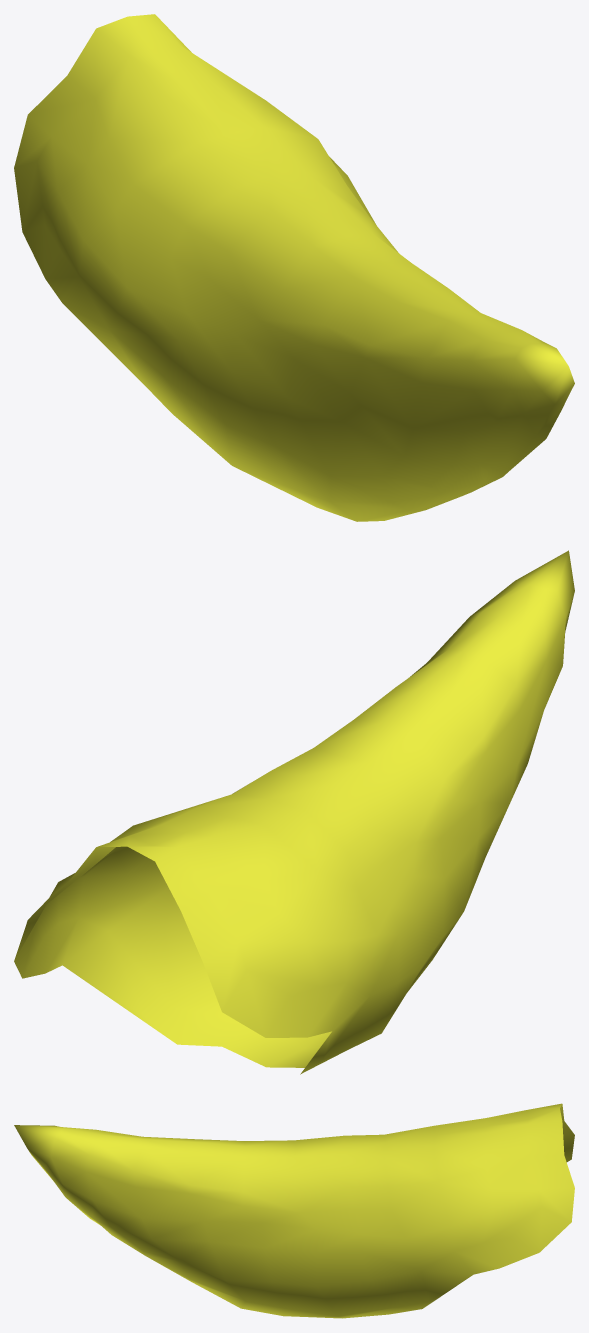
The model's file is SM_Horn.FBX.
The picture shows the model from 3 angles, top to bottom: view 1: azimuth 30°, elevation 25°; view 2: azimuth 150°, elevation 25°; view 3: azimuth 270°, elevation 25°; orthographic projection. The views are drawn at different scales.
Visible parts, largest first — view 1: SM_Horn; view 2: SM_Horn; view 3: SM_Horn.
Part boxes in pixels (bbox=[...]): SM_Horn: bbox=[14, 14, 574, 521]; SM_Horn: bbox=[14, 550, 574, 1074]; SM_Horn: bbox=[14, 1103, 574, 1318].
Size of the model in its own units: 153 by 179 by 444.
